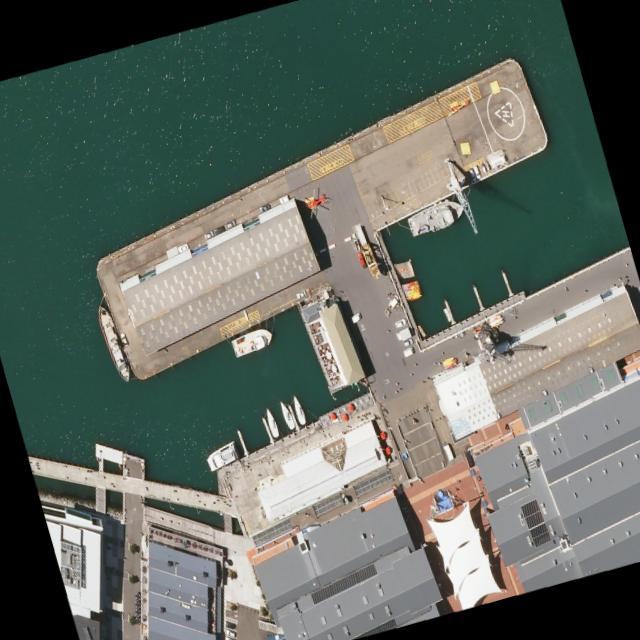large-vehicle: (396, 326, 411, 341), (357, 251, 366, 267)
ship: (94, 302, 134, 383), (406, 190, 466, 240), (231, 324, 275, 356), (205, 439, 239, 470)
small-vehicle: (387, 290, 399, 308), (472, 162, 481, 178), (403, 344, 415, 356), (350, 311, 361, 323), (394, 316, 406, 327), (468, 166, 477, 180), (278, 192, 289, 203), (177, 242, 189, 252), (120, 331, 128, 345), (402, 336, 413, 346), (225, 218, 236, 228), (213, 224, 225, 233), (295, 288, 306, 297), (259, 202, 270, 211), (203, 229, 214, 238), (225, 627, 235, 636), (225, 620, 234, 628), (225, 634, 236, 640)
